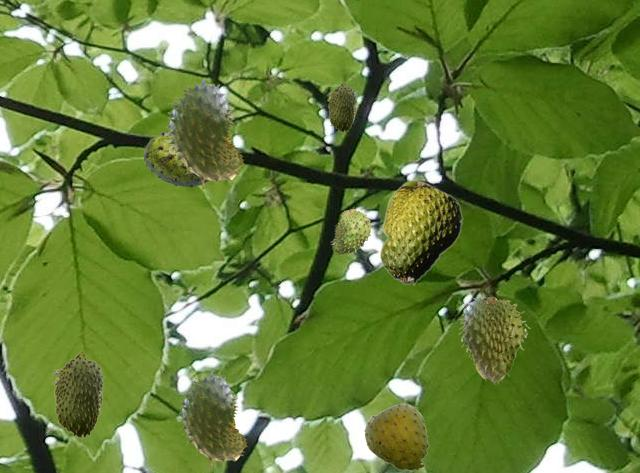guyabano: (378, 179, 462, 285), (164, 78, 243, 189), (177, 371, 246, 468), (458, 296, 529, 383), (52, 350, 104, 437), (363, 403, 428, 471), (143, 129, 209, 186), (330, 209, 370, 254), (327, 81, 356, 131)
